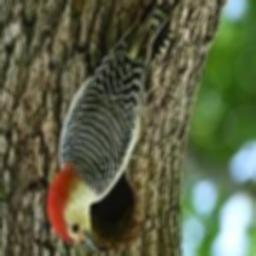Woodpecker: (47, 0, 186, 255)
